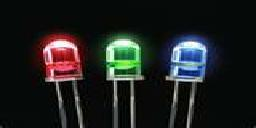LED: (99, 38, 151, 128), (38, 35, 86, 128), (164, 36, 207, 128)
